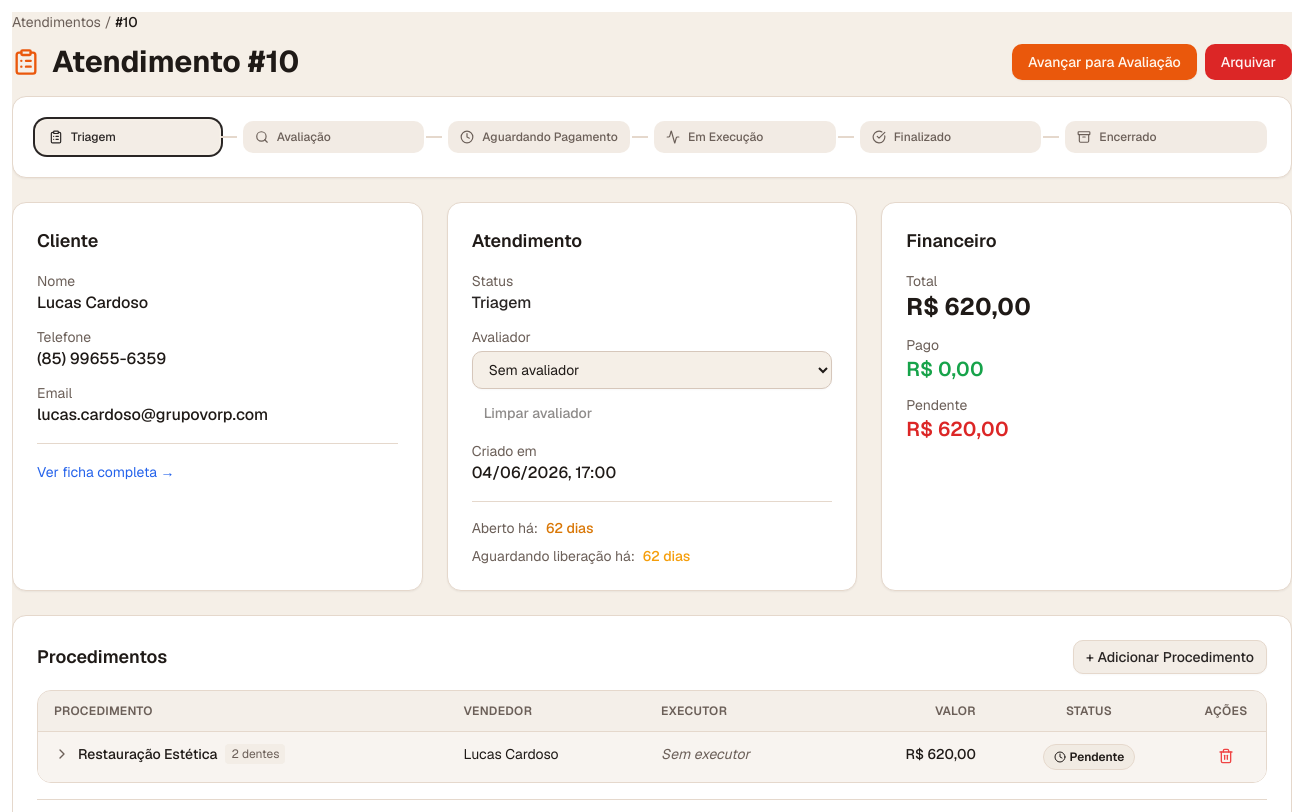
Test: AtendimentoDetalhePage triagem editável › em triagem permite abrir o seletor de vendedor do grupo
The image size is (1304, 812).
Check: the heading "Atendimento #10" is shown, box top-left (12, 44), bottom-right (299, 80)
Click the button with aria-label "Vendedor do grupo grupo-restauracao" at (511, 754), box top-left (464, 744), bottom-right (559, 764)
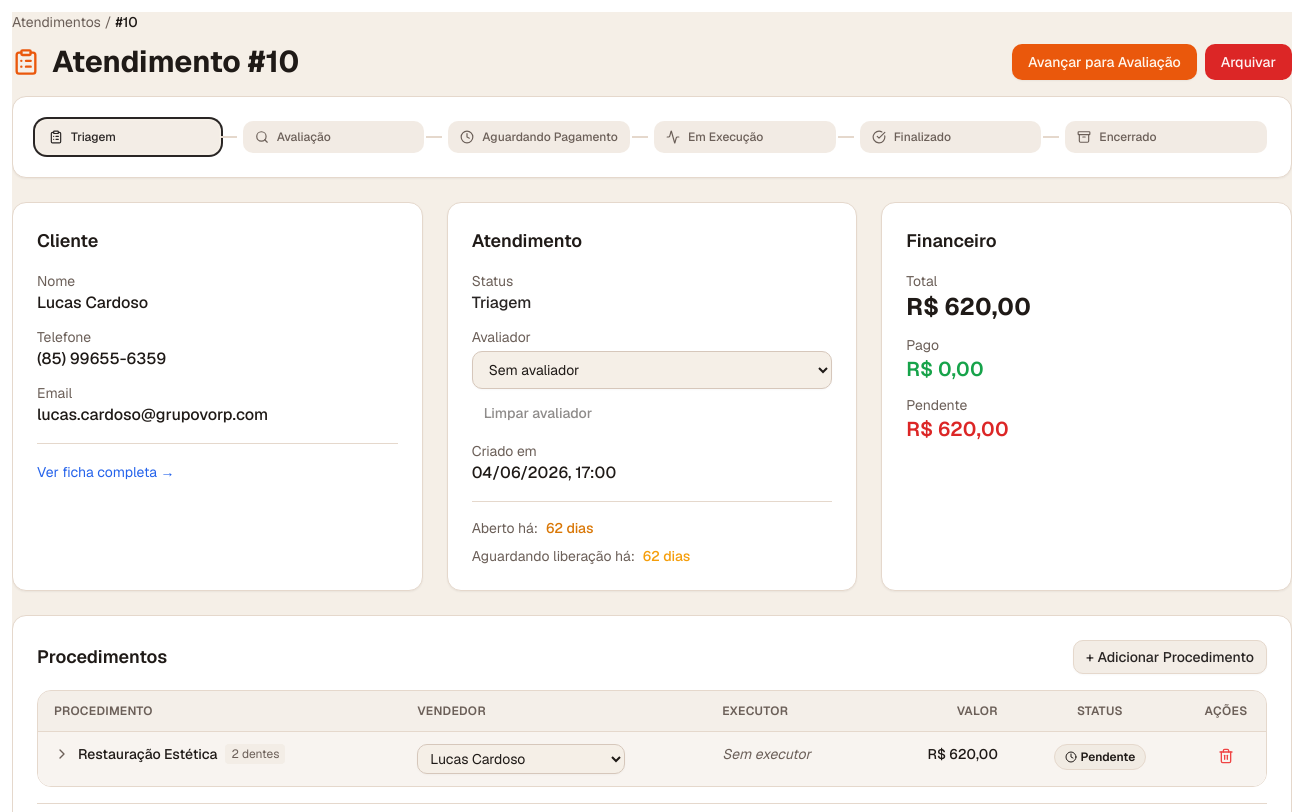
Check: the dropdown named "Vendedor do grupo grupo-restauracao" is shown, box top-left (417, 744), bottom-right (625, 774)
